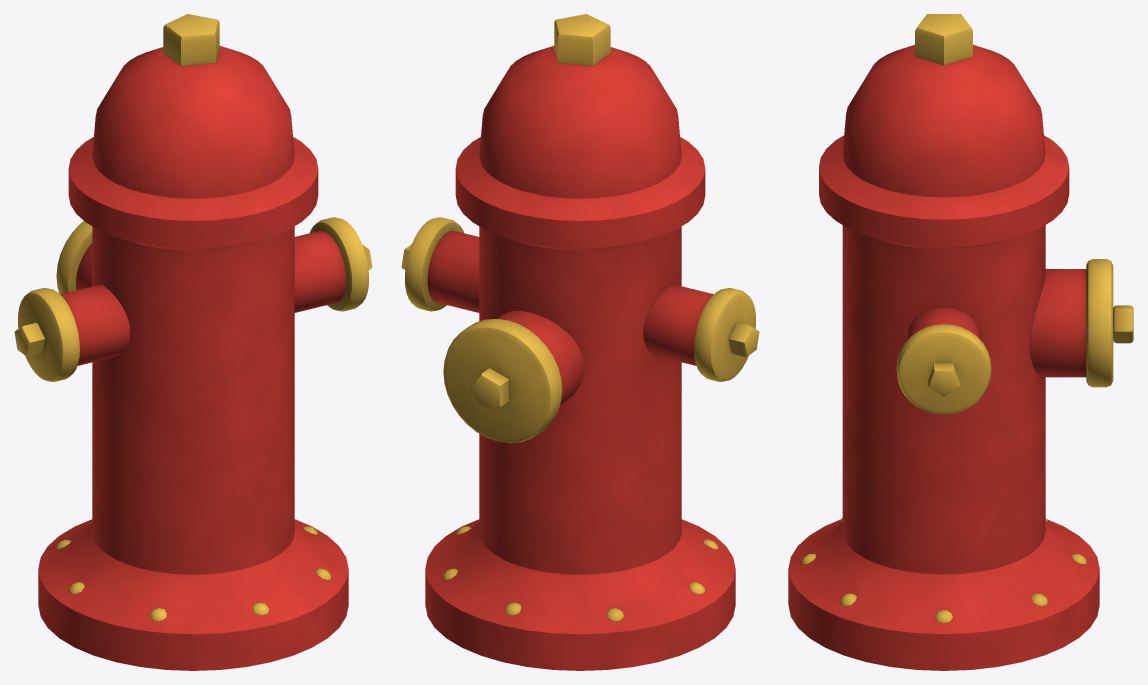
Rendered from FireHydrant.fbx.
3 views of the same model, side by side, from view 1: azimuth 30°, elevation 25°; view 2: azimuth 150°, elevation 25°; view 3: azimuth 270°, elevation 25° (orthographic).
Visible parts, largest first — view 1: FireHydrant; view 2: FireHydrant; view 3: FireHydrant.
Part boxes in pixels (box(x1,y1,x2,y2)): FireHydrant: box(14, 14, 372, 670); FireHydrant: box(401, 14, 759, 670); FireHydrant: box(788, 14, 1133, 670).
Size of the model in its own units: 1.18 by 1.9 by 1.02.
1 material, 1 textured.
